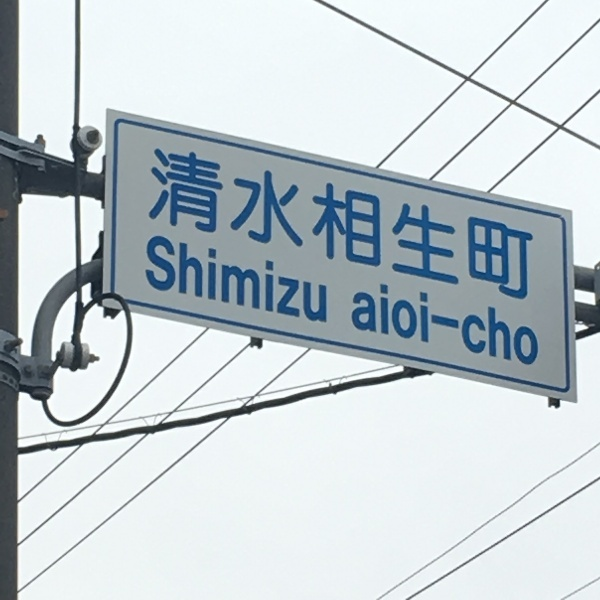text: (161, 138, 176, 304), (177, 138, 192, 304), (193, 138, 208, 304), (209, 138, 224, 304), (225, 138, 240, 304), (241, 138, 256, 304), (257, 138, 272, 304), (273, 138, 288, 304), (289, 138, 304, 304), (305, 138, 320, 304), (321, 138, 336, 304), (337, 138, 352, 304), (353, 138, 368, 304), (369, 138, 384, 304), (385, 138, 400, 304), (401, 138, 416, 304), (417, 138, 432, 304), (433, 138, 448, 304), (449, 138, 464, 304), (465, 138, 480, 304), (481, 138, 496, 304), (497, 138, 512, 304), (513, 138, 528, 304), (161, 231, 176, 327), (177, 231, 192, 327), (193, 231, 208, 327), (209, 231, 224, 327), (225, 231, 240, 327), (241, 231, 256, 327), (257, 231, 272, 327), (273, 231, 288, 327), (289, 231, 304, 327), (305, 231, 320, 327), (369, 275, 384, 369), (385, 275, 400, 369), (401, 275, 416, 369), (417, 275, 432, 369), (433, 275, 448, 369), (449, 275, 464, 369), (465, 275, 480, 369), (481, 275, 496, 369), (497, 275, 512, 369), (513, 275, 528, 369), (147, 231, 160, 327), (153, 138, 160, 304), (357, 275, 368, 369), (529, 275, 539, 369), (529, 138, 534, 304), (321, 231, 329, 327)
